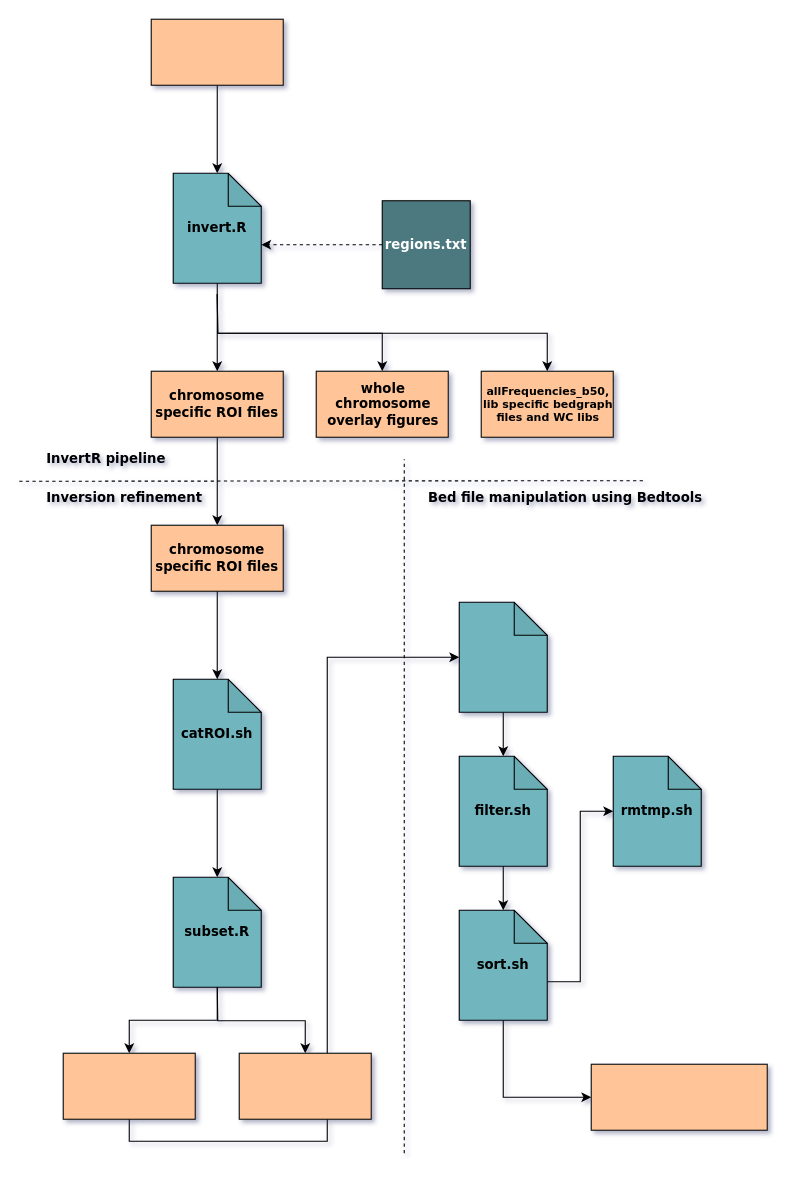
This 793x1180 diagram has some shape labels left out. The shapes that lost their labels are listed below. From the top down, each one's centre as x and y in pixels, then its label:
[216,51]: BAIToutput.bed
[502,656]: intersect.sh
[128,1085]: ROI_AWC.bed
[304,1085]: ROI_NAWC.bed
[678,1096]: coordinates of refined inversion in bed-format
